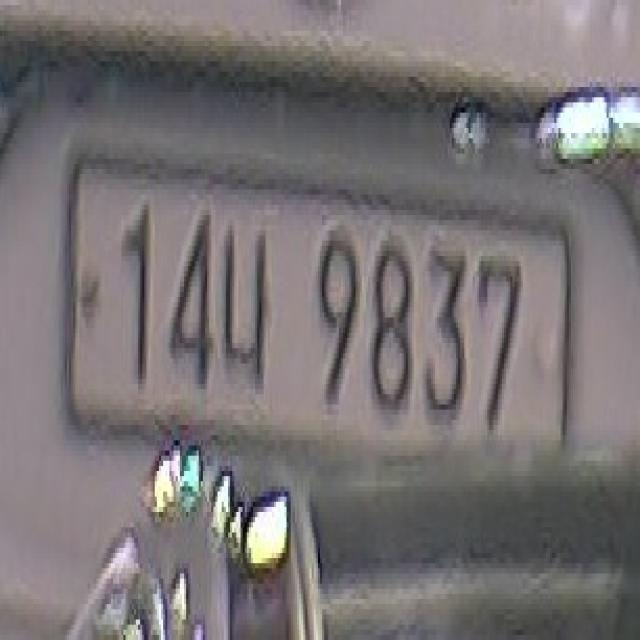1: (109, 194, 161, 404)
3: (418, 246, 471, 435)
4: (167, 194, 220, 404)
7: (475, 241, 529, 440)
8: (368, 225, 416, 430)
9: (312, 205, 366, 415)
license_plate: (57, 138, 573, 486)
na: (220, 190, 288, 410)
